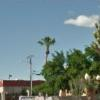Palm tree: (36, 29, 58, 64)
